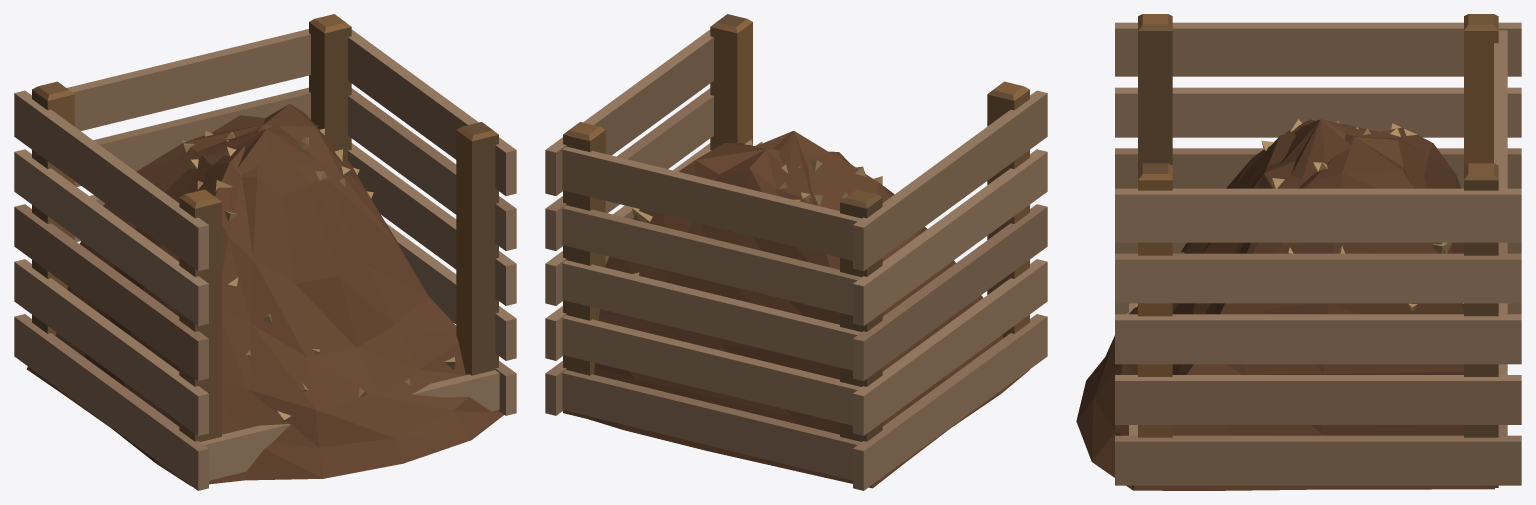
File: compost-heap-dfec38.glb
The picture shows the model from 3 angles, left to right: view 1: azimuth 30°, elevation 25°; view 2: azimuth 150°, elevation 25°; view 3: azimuth 270°, elevation 25°; orthographic projection. The views are drawn at different scales.
Parts seen in each view (by area): view 1: compost-heap-dfec38; view 2: compost-heap-dfec38; view 3: compost-heap-dfec38.
Part boxes in pixels (left/top/right/bottom): compost-heap-dfec38: left=14, top=14, right=516, bottom=490; compost-heap-dfec38: left=545, top=14, right=1047, bottom=490; compost-heap-dfec38: left=1076, top=14, right=1521, bottom=490.
Bounding box in the file's own units: 0.88 × 0.7688 × 0.9637.
